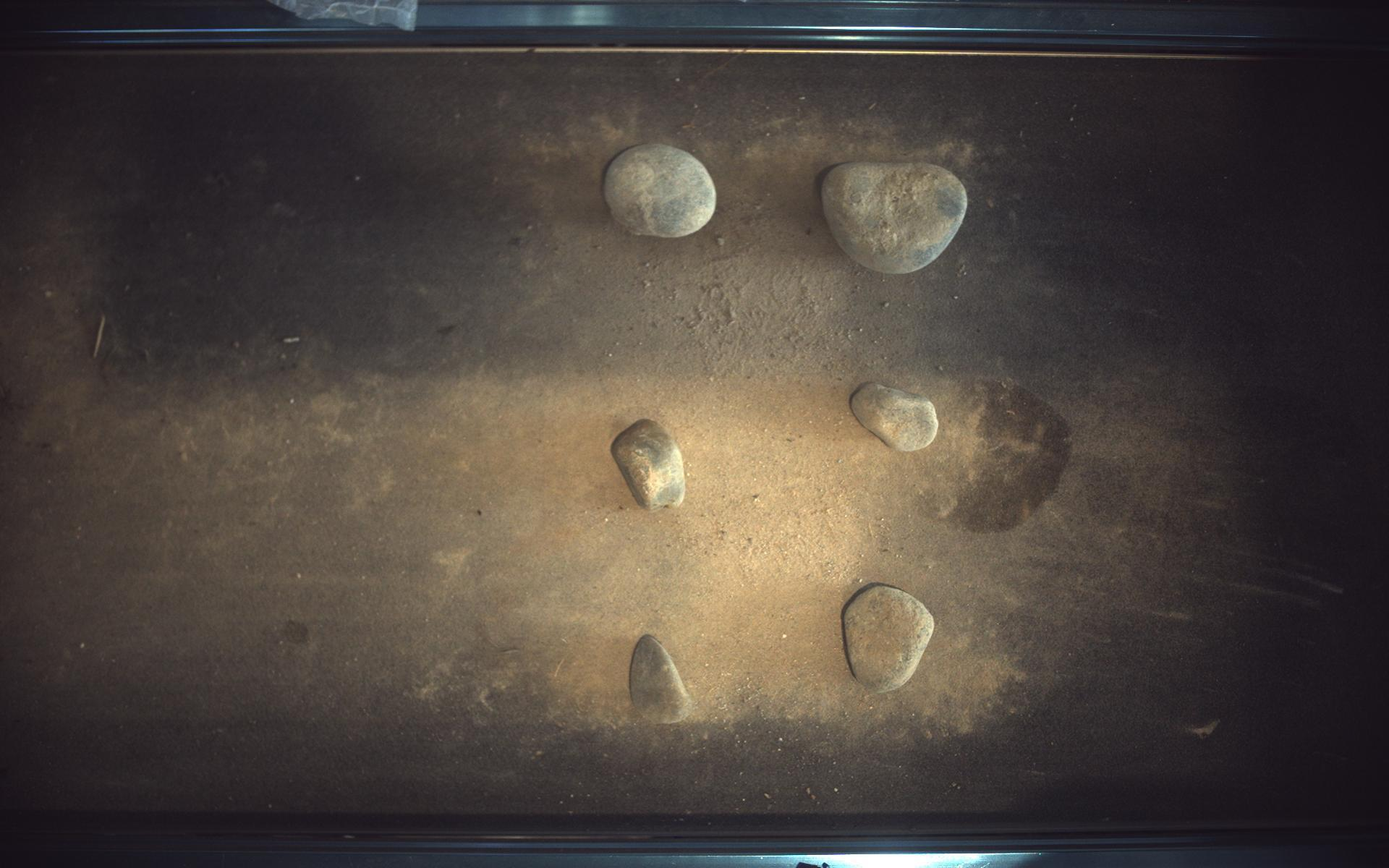stone: (823, 161, 969, 273), (605, 143, 718, 237), (845, 587, 936, 694), (611, 419, 687, 511), (852, 382, 940, 452), (629, 636, 693, 725)
